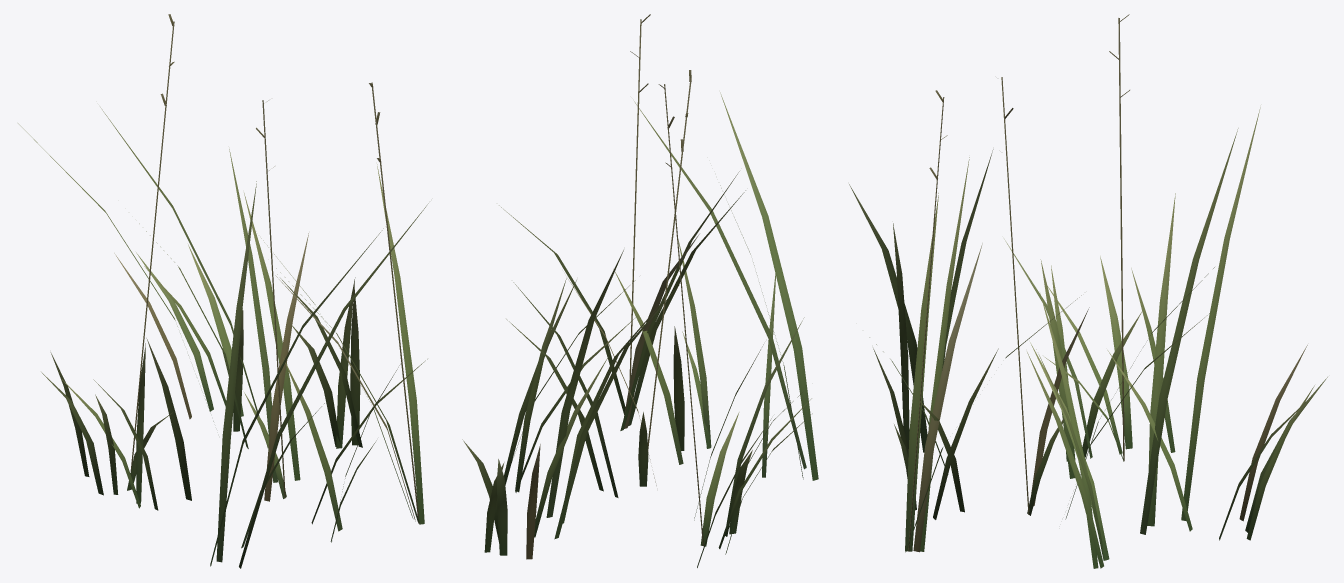
File: woodland_sedges_mid.gltf
The picture shows the model from 3 angles, left to right: view 1: azimuth 30°, elevation 25°; view 2: azimuth 150°, elevation 25°; view 3: azimuth 270°, elevation 25°; orthographic projection. The views are drawn at different scales.
Visible parts, largest first — view 1: woodland_sedges_mid; view 2: woodland_sedges_mid; view 3: woodland_sedges_mid.
Part boxes in pixels (<box>): woodland_sedges_mid: <box>18,14,428,568</box>; woodland_sedges_mid: <box>462,14,818,567</box>; woodland_sedges_mid: <box>849,14,1327,568</box>.
Size of the model in its own units: 0.9457 by 1.26 by 1.17.
3 materials, 3 textured.
